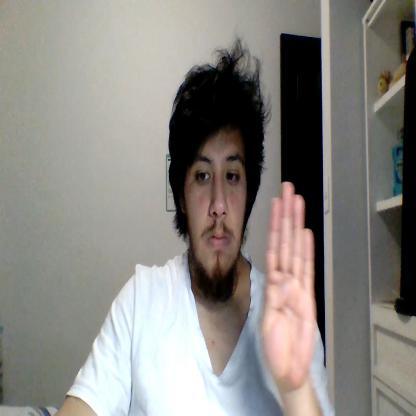B: (259, 181, 316, 391)
